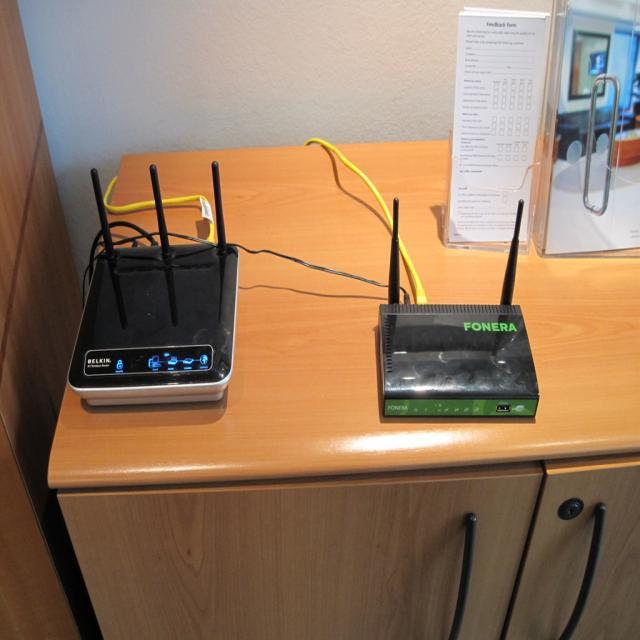desk: (48, 155, 640, 640)
